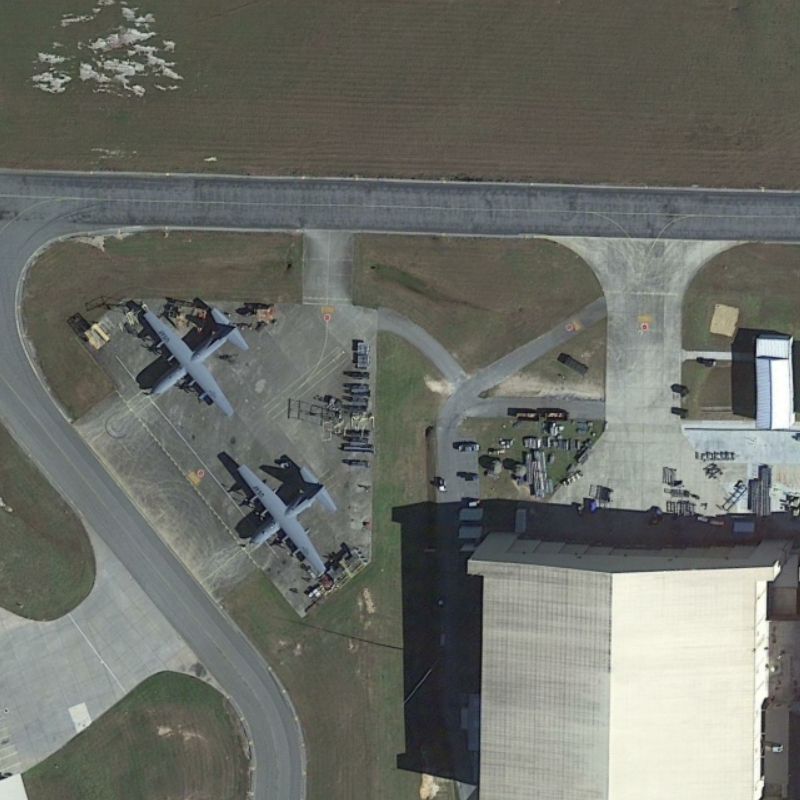A2: (230, 458, 341, 581), (136, 305, 253, 419)
